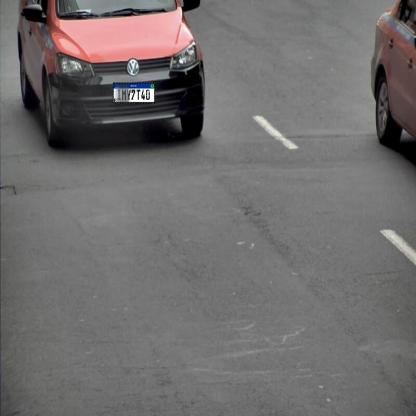PlacaM: (113, 82, 155, 104)
